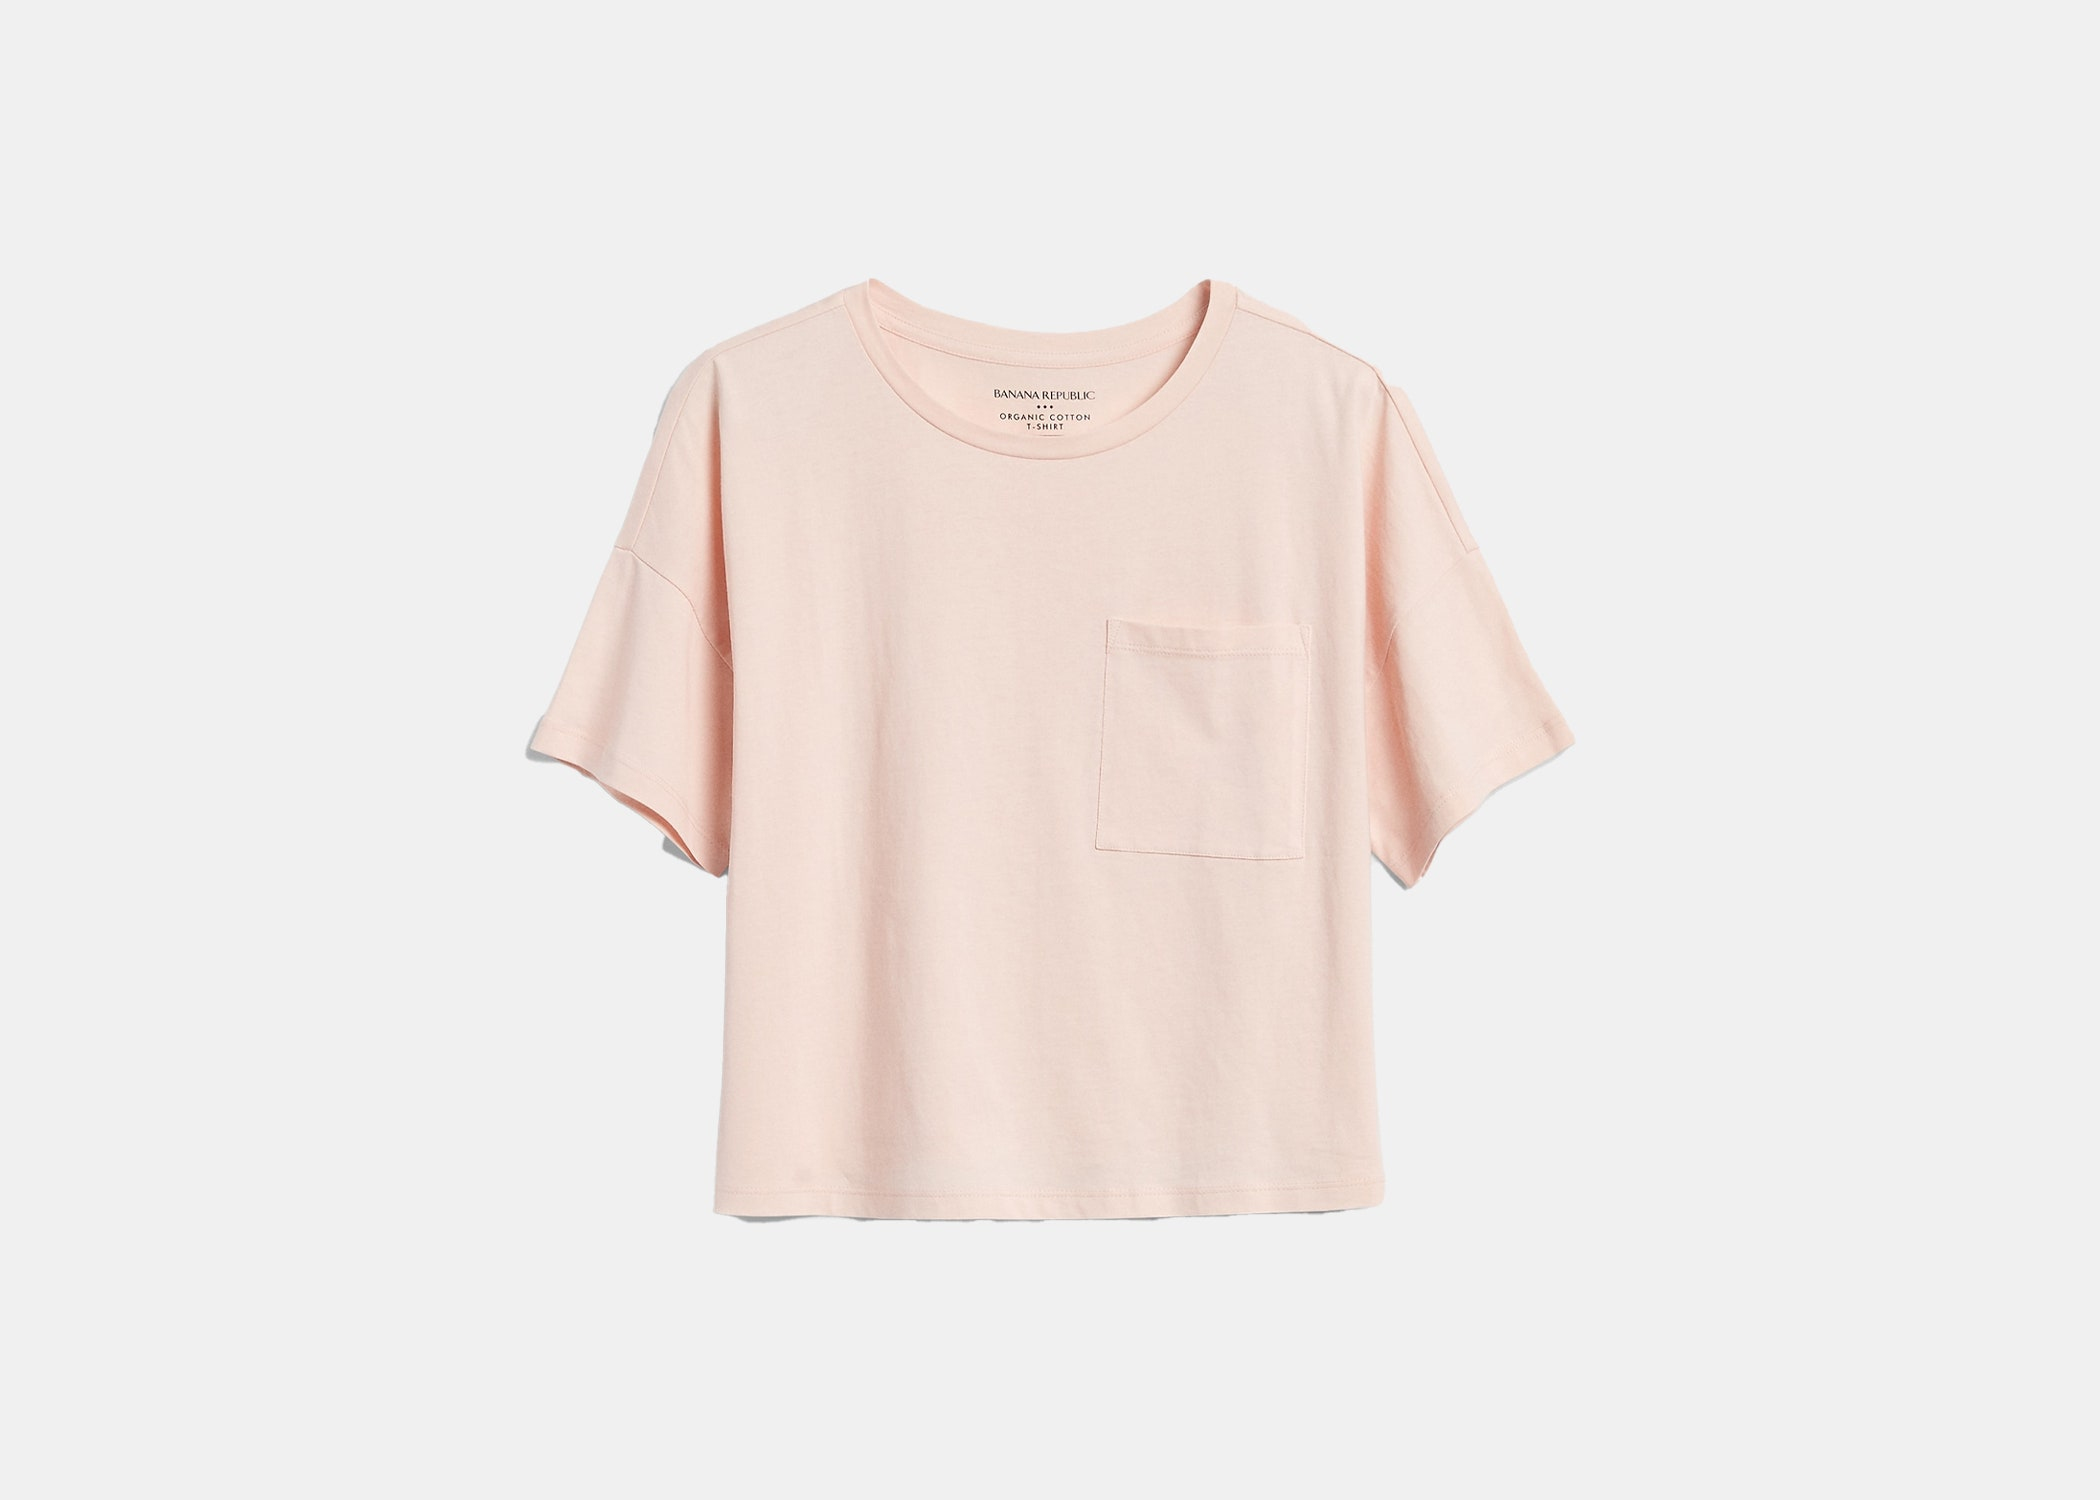blouse: (518, 278, 1642, 1221)
